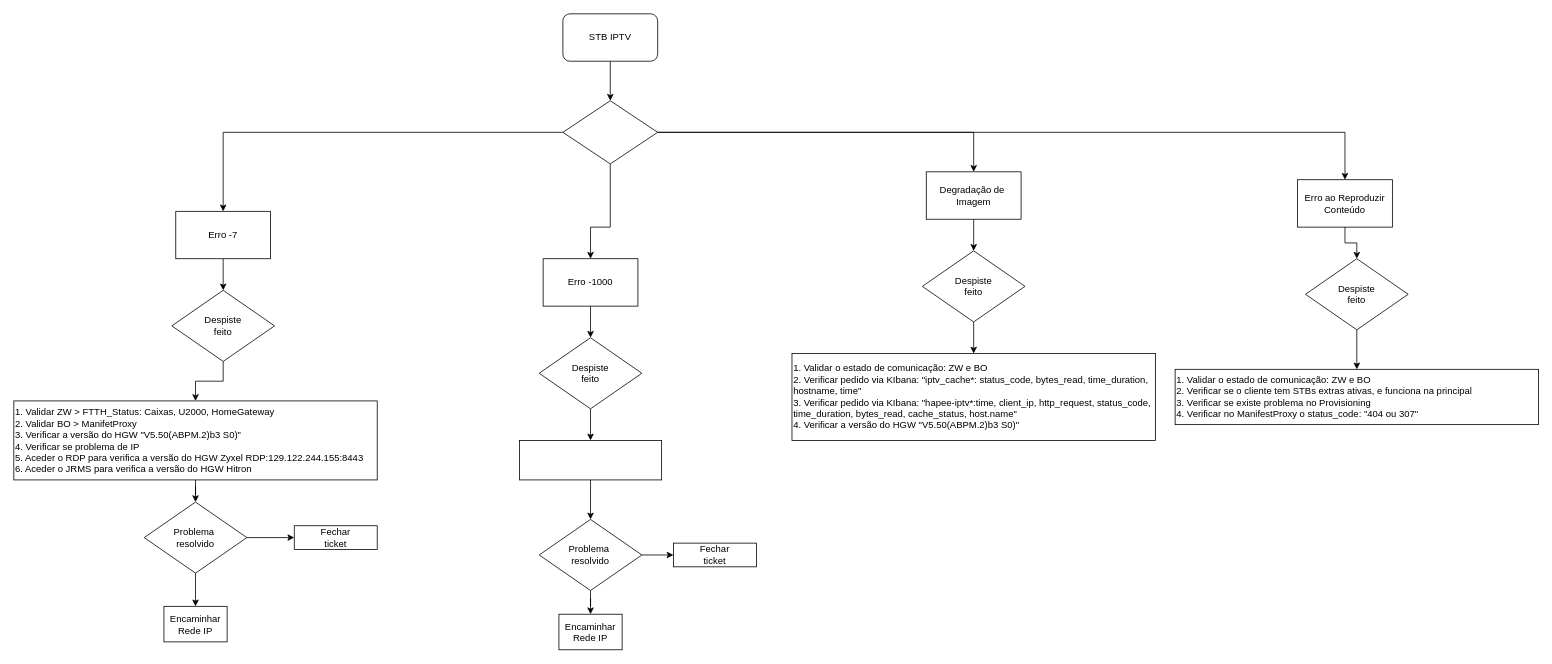
The diagram is 1552 pixels wide and 664 high, and some of its shapes have lost their labels. Here are the shapes that lost their labels. From the top down, the centre of each, then its label:
(610,132): Problema reportado
(590,460): 1. Validar se tem acesso a TV 2. Validar se tem IP VOD
